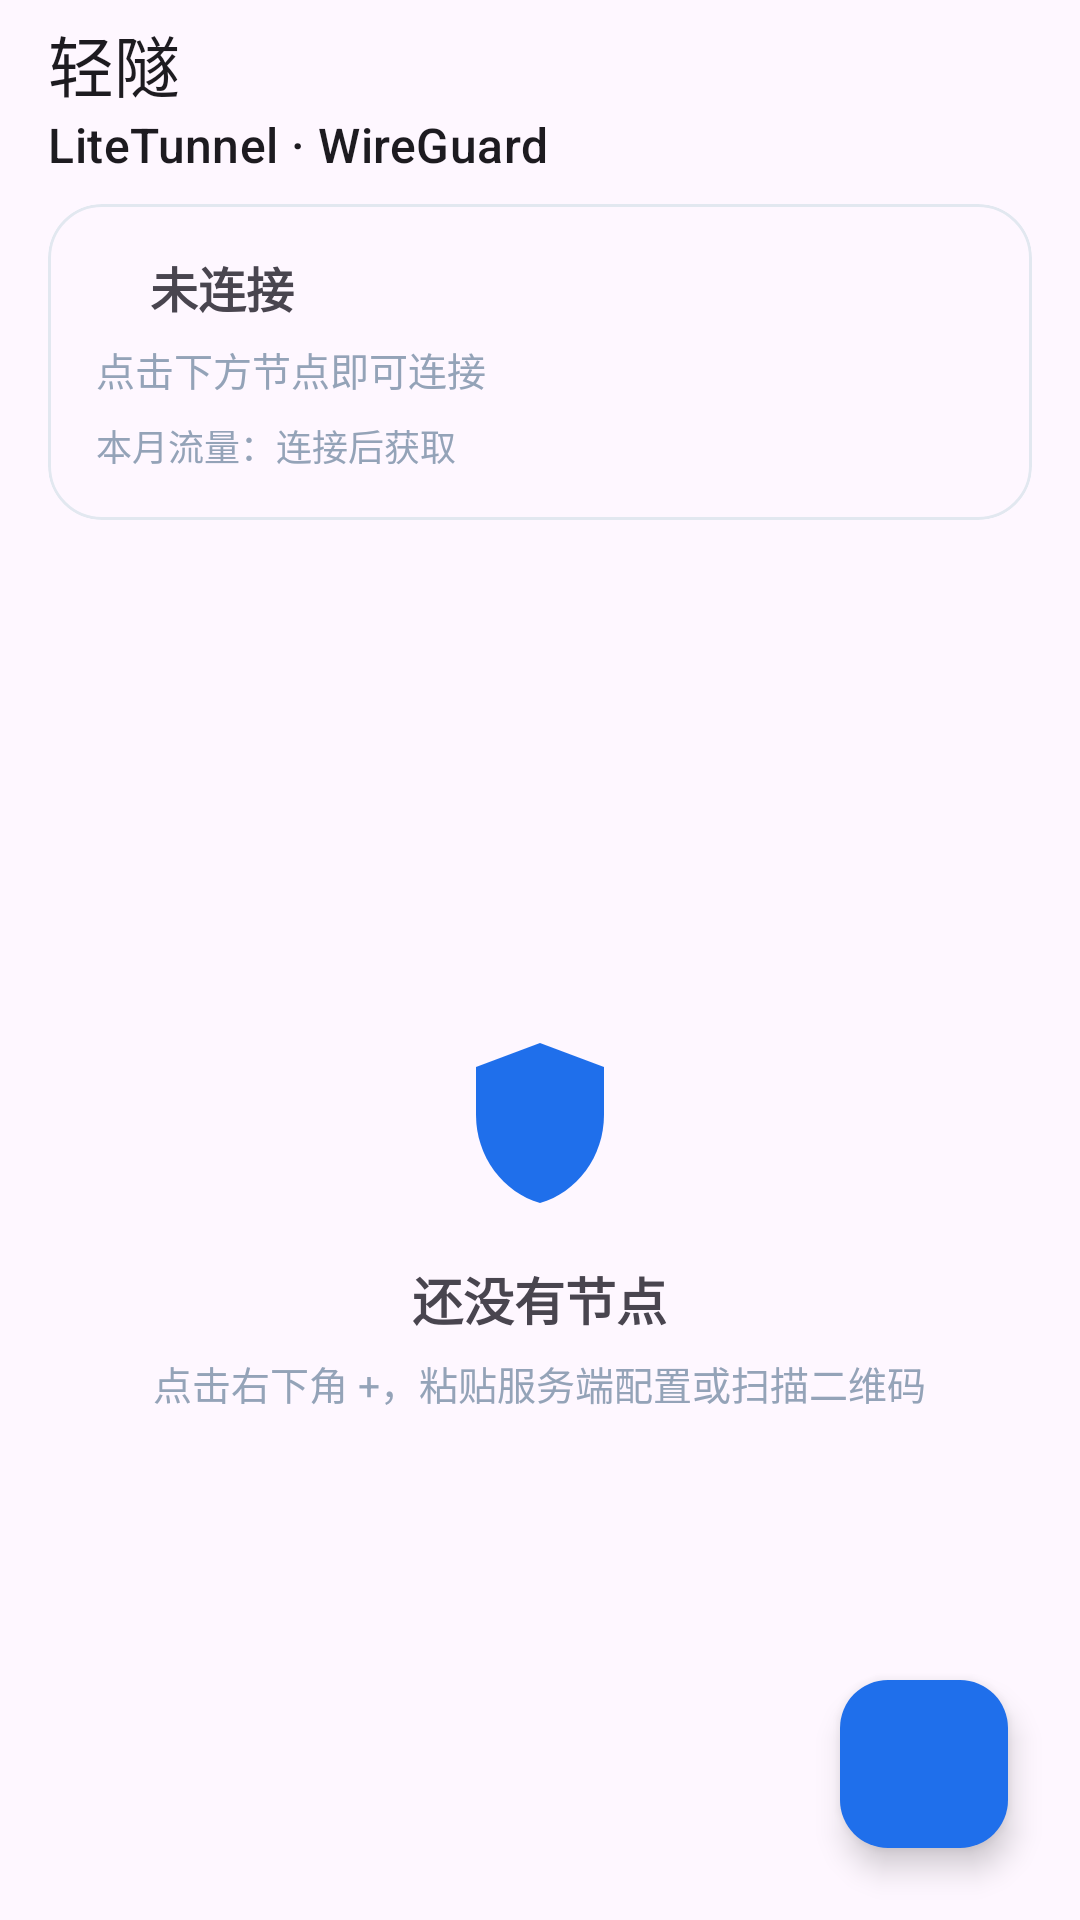

Named icons in this screenshot (1080px x 1920px) and their bounding boxes, box(x1, y1, x2, y2):
shield: box(476, 1043, 604, 1203)
